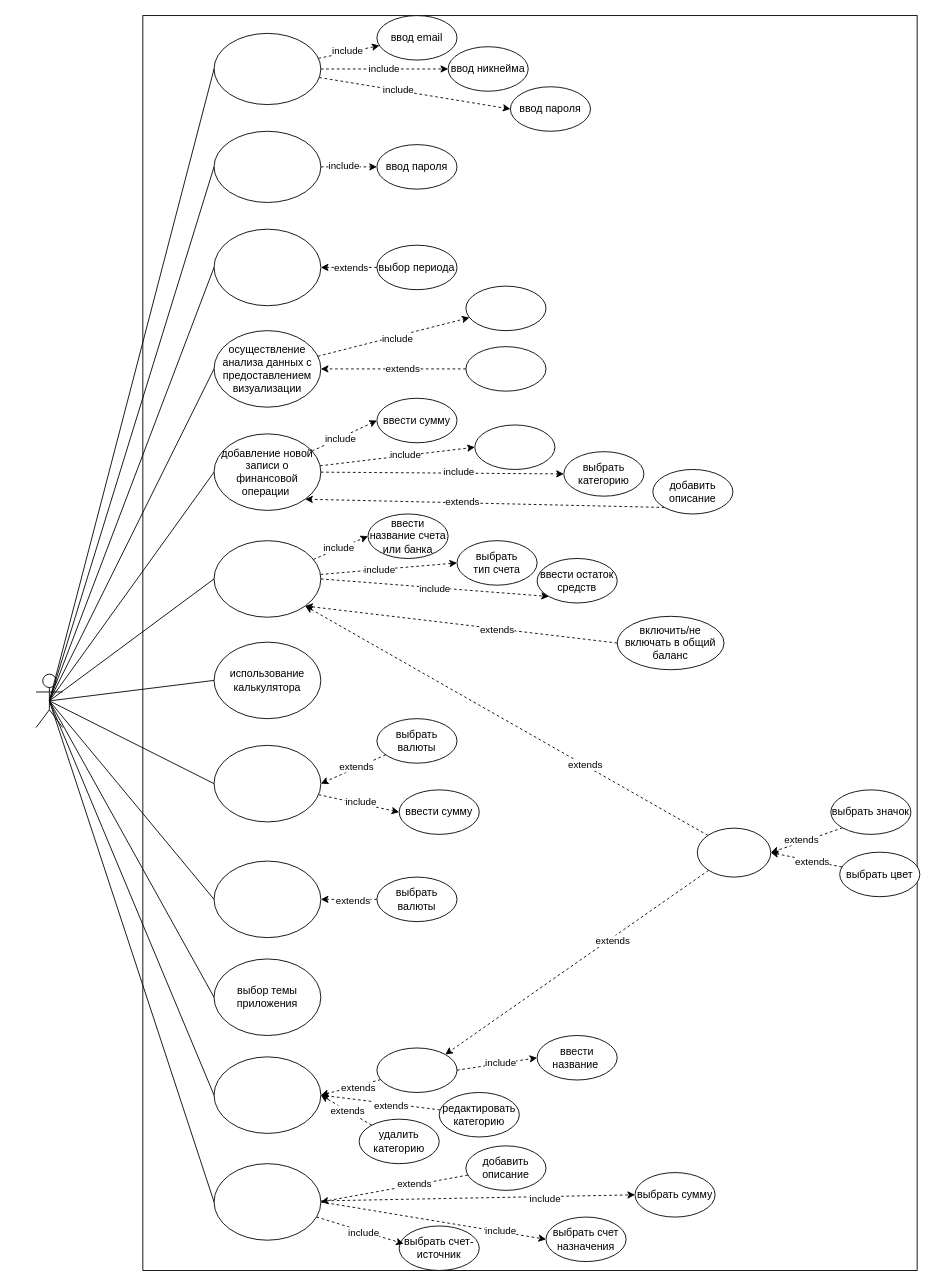
This 935x1286 diagram has some shape labels left out. Here are the shapes that lost their labels. From the top down, the centre of each, then its label:
At point 267,68: "регистрация нового пользователя".
At point 267,166: "авторизация пользователя".
At point 267,267: "просмотр движения денежных средств за выбранный период".
At point 505,308: "осуществить анализ".
At point 505,368: "выбрать критерии".
At point 514,446: "выбрать счет".
At point 267,578: "добавление нового счета".
At point 49,700: "пользователь".
At point 267,783: "использование конвертера".
At point 733,852: "настроить параметры".
At point 267,899: "установка стандартной валюты для приложения".
At point 416,1069: "создать категорию".
At point 267,1094: "осущесвление ведения категорий".
At point 267,1201: "осуществление переводов между счетами".
